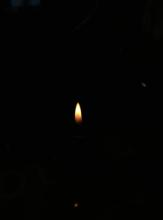fire: (71, 98, 93, 133)
